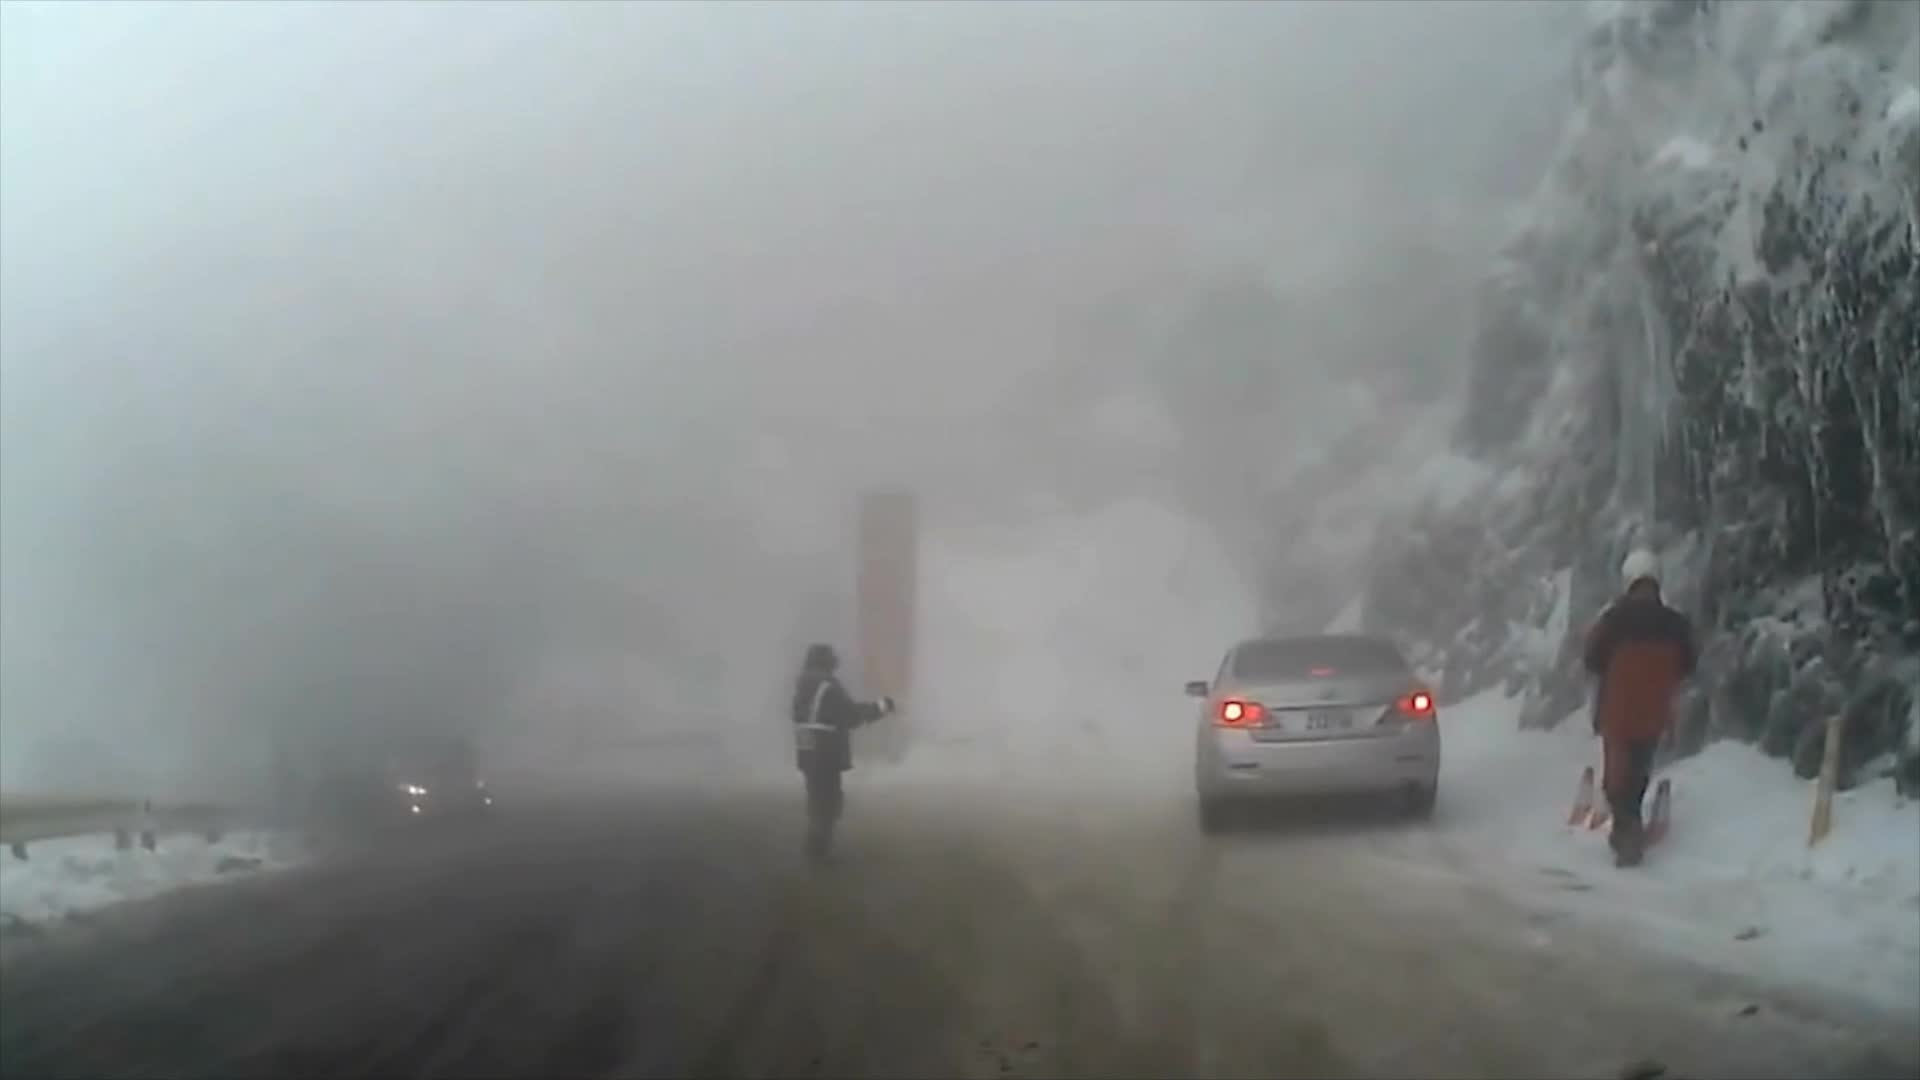pedestrian: (1582, 543, 1695, 866), (790, 646, 896, 865)
vehicle: (1184, 630, 1442, 836)
